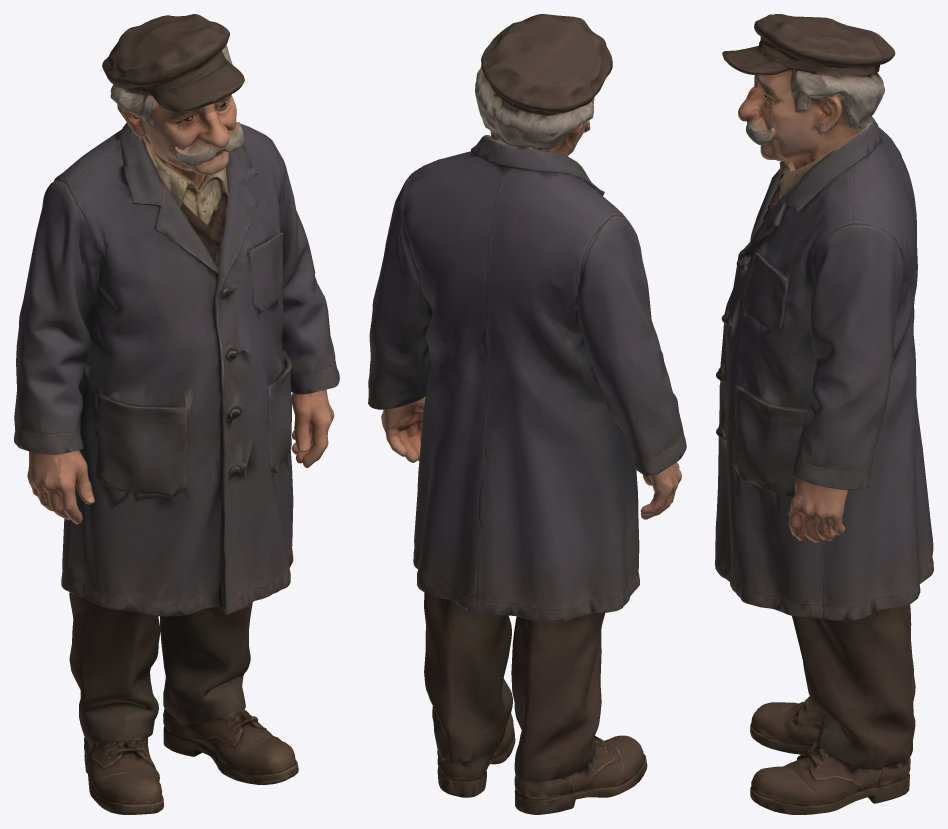
File: caretaker.glb
The picture shows the model from 3 angles, left to right: view 1: azimuth 30°, elevation 25°; view 2: azimuth 150°, elevation 25°; view 3: azimuth 270°, elevation 25°; orthographic projection. The views are drawn at different scales.
Parts seen in each view (by area): view 1: tripo_node_53f2f257-960f-423b-a580-49adc3e4334b; view 2: tripo_node_53f2f257-960f-423b-a580-49adc3e4334b; view 3: tripo_node_53f2f257-960f-423b-a580-49adc3e4334b.
Boxes of the visible parts, box(x1,y1,x2,y2) form: tripo_node_53f2f257-960f-423b-a580-49adc3e4334b: box(14, 14, 339, 814); tripo_node_53f2f257-960f-423b-a580-49adc3e4334b: box(368, 14, 686, 814); tripo_node_53f2f257-960f-423b-a580-49adc3e4334b: box(715, 14, 933, 814).
Bounding box in the file's own units: 0.7894 × 1.84 × 0.4846.
1 material, 1 textured.
